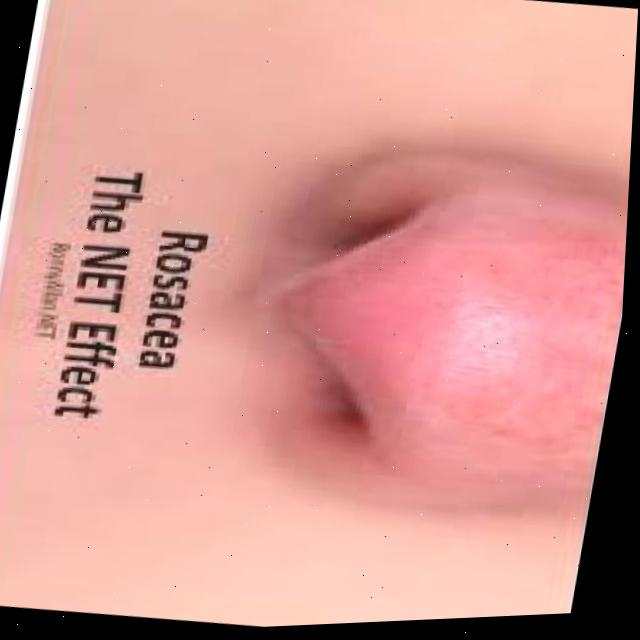Rosacea: (287, 184, 629, 495)
